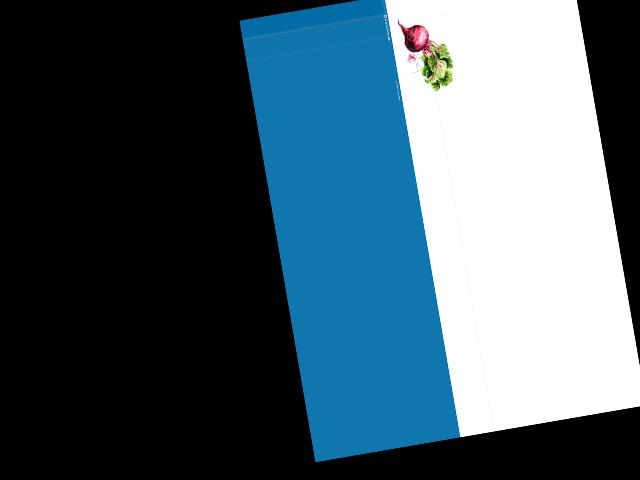beet: (396, 12, 456, 96)
